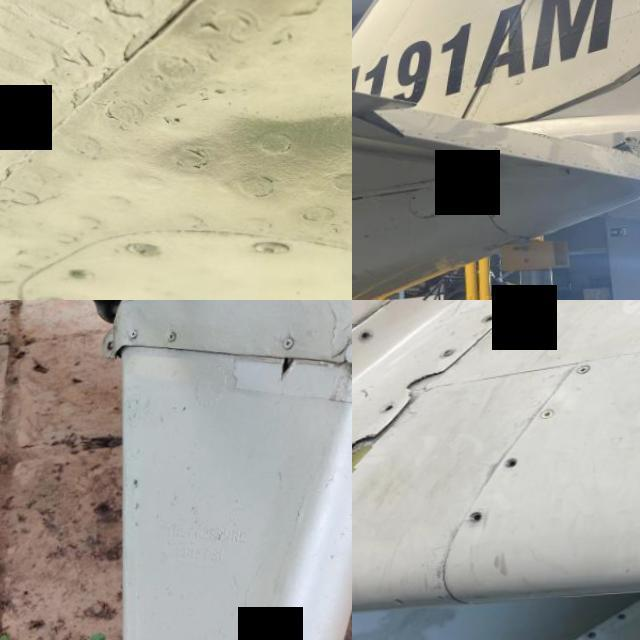Crack: (352, 428, 386, 518), (267, 348, 315, 395), (400, 370, 453, 398)
Dent: (166, 61, 352, 239)
Missing_Fastener: (472, 512, 489, 528), (360, 329, 377, 344), (480, 313, 499, 324), (506, 458, 523, 470), (385, 402, 399, 414)
